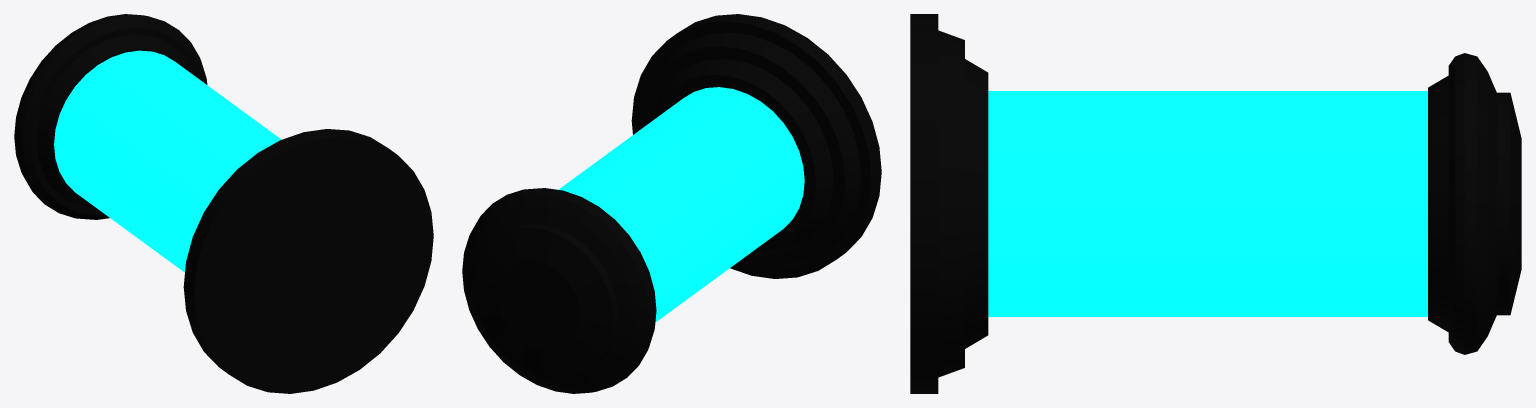
The model's file is CashCow0.fbx.
The picture shows the model from 3 angles, left to right: view 1: azimuth 30°, elevation 25°; view 2: azimuth 150°, elevation 25°; view 3: azimuth 270°, elevation 25°; orthographic projection. The views are drawn at different scales.
Parts seen in each view (by area): view 1: Cylinder, Cylinder.001, Cylinder.014; view 2: Cylinder.014, Cylinder.001, Cylinder; view 3: Cylinder.001, Cylinder, Cylinder.014.
Part boxes in pixels (box(x1,y1,x2,y2)): Cylinder: box(183, 129, 433, 393); Cylinder.001: box(54, 50, 281, 272); Cylinder.014: box(14, 14, 207, 219); Cylinder.014: box(462, 188, 656, 393); Cylinder.001: box(558, 87, 804, 322); Cylinder: box(631, 14, 881, 278); Cylinder.001: box(988, 91, 1427, 316); Cylinder: box(910, 14, 988, 393); Cylinder.014: box(1428, 53, 1521, 354).
Size of the model in its own units: 3312 by 3312 by 5321.
